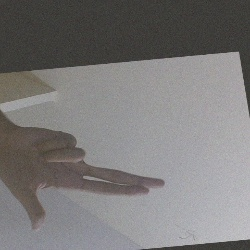hand: (11, 117, 168, 235)
